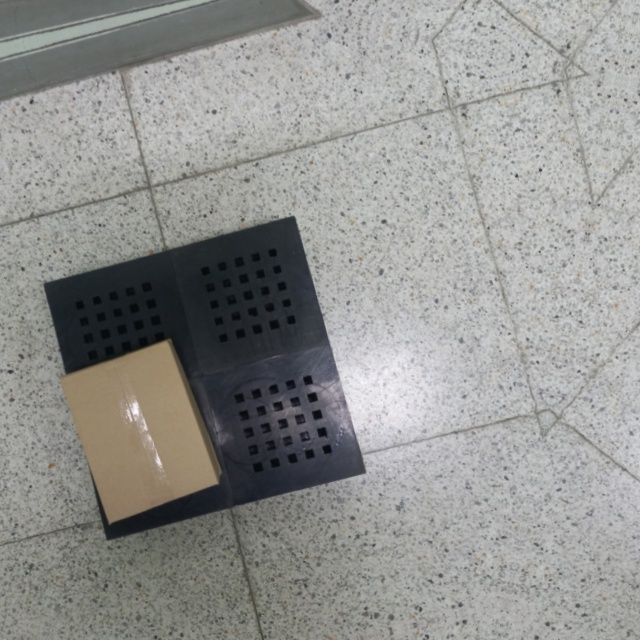box: (56, 334, 224, 529)
pallet: (33, 206, 381, 544)
